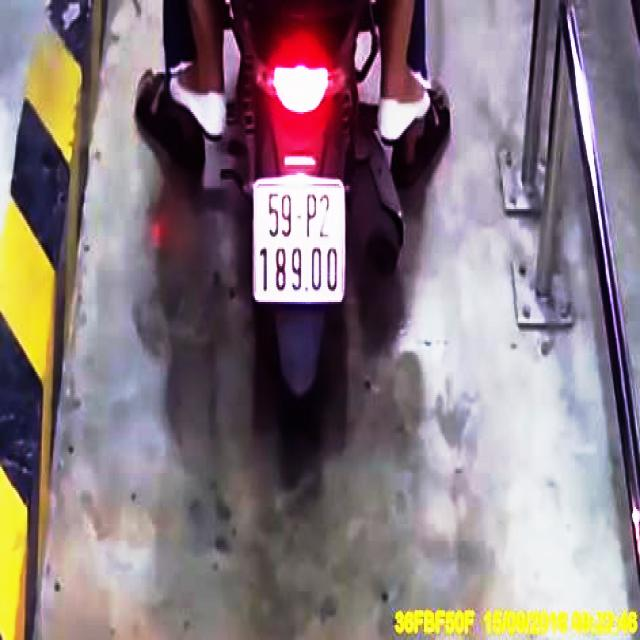license_plate: (255, 181, 347, 305)
